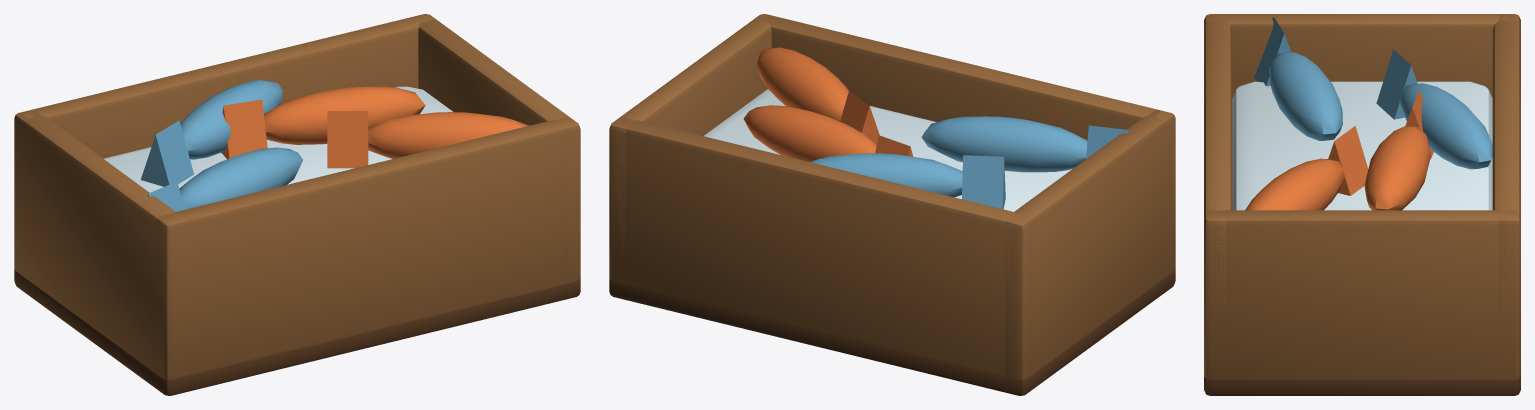
Rendered from FishCrate.fbx.
3 renders of one model, left to right at view 1: azimuth 30°, elevation 25°; view 2: azimuth 150°, elevation 25°; view 3: azimuth 270°, elevation 25°, orthographic. The views are drawn at different scales.
Visible parts, largest first — view 1: FishCrate; view 2: FishCrate; view 3: FishCrate.
Part boxes in pixels (left/top/right/bottom): FishCrate: left=14, top=14, right=580, bottom=395; FishCrate: left=609, top=14, right=1175, bottom=395; FishCrate: left=1204, top=14, right=1520, bottom=395.
Size of the model in its own units: 0.7 by 0.285 by 0.45.
